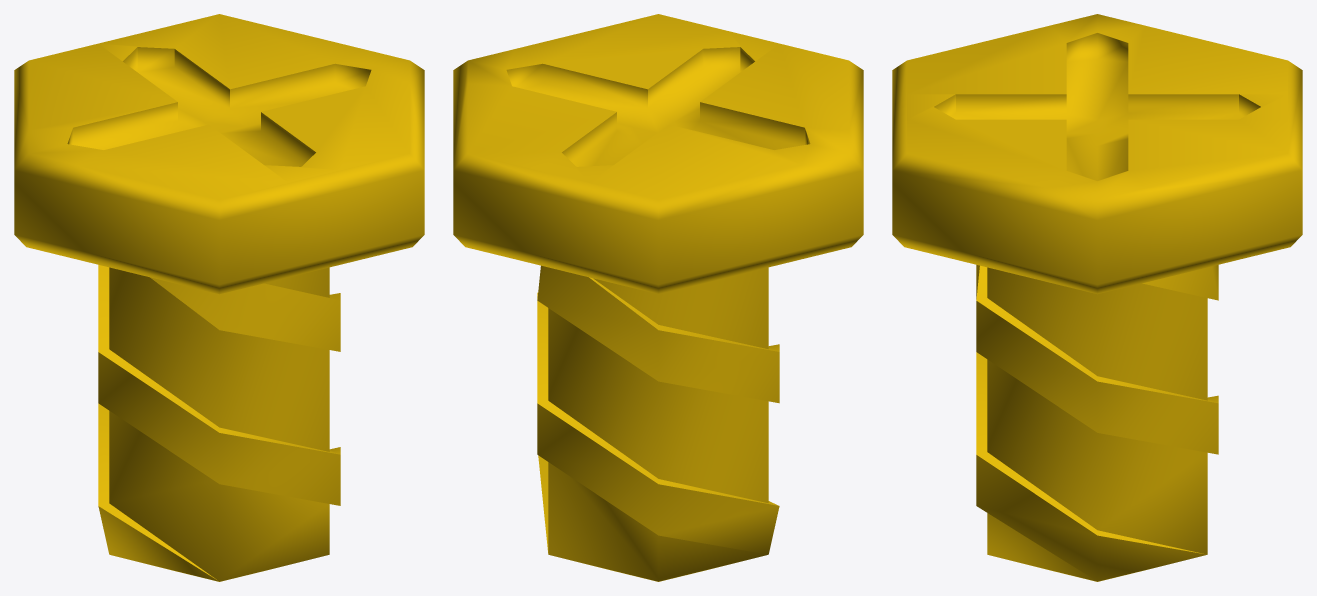
Rendered from gold bolt.fbx.
The picture shows the model from 3 angles, left to right: view 1: azimuth 30°, elevation 25°; view 2: azimuth 150°, elevation 25°; view 3: azimuth 270°, elevation 25°; orthographic projection.
Visible parts, largest first — view 1: pCylinder14; view 2: pCylinder14; view 3: pCylinder14.
Part boxes in pixels (box(x1,y1,x2,y2)): pCylinder14: box(14, 14, 424, 581); pCylinder14: box(453, 14, 863, 581); pCylinder14: box(892, 14, 1302, 581).
Size of the model in its own units: 2 by 2.09 by 1.73.
